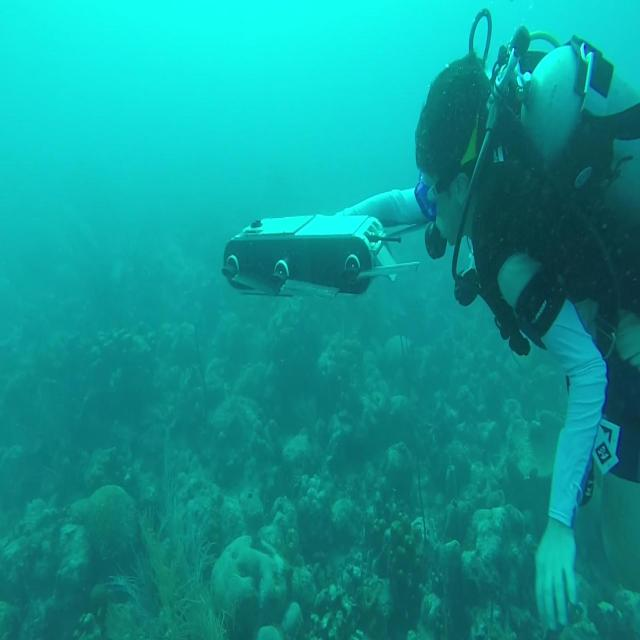human: (221, 18, 638, 630)
